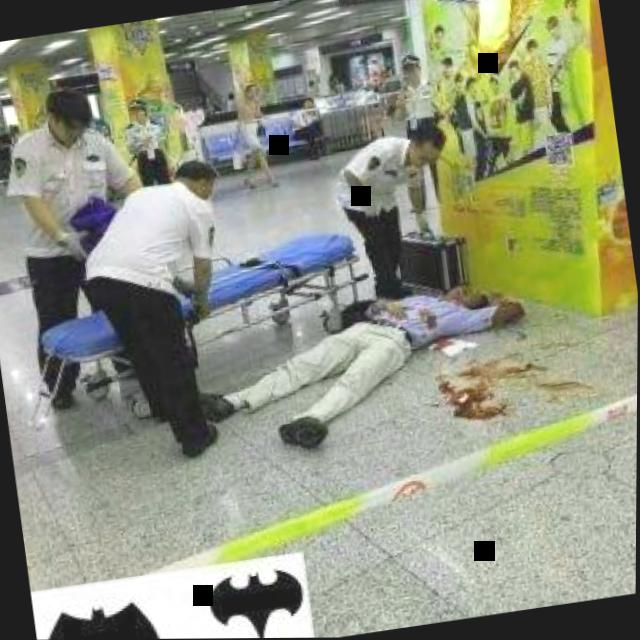Fall-Detected: (184, 241, 540, 468)
